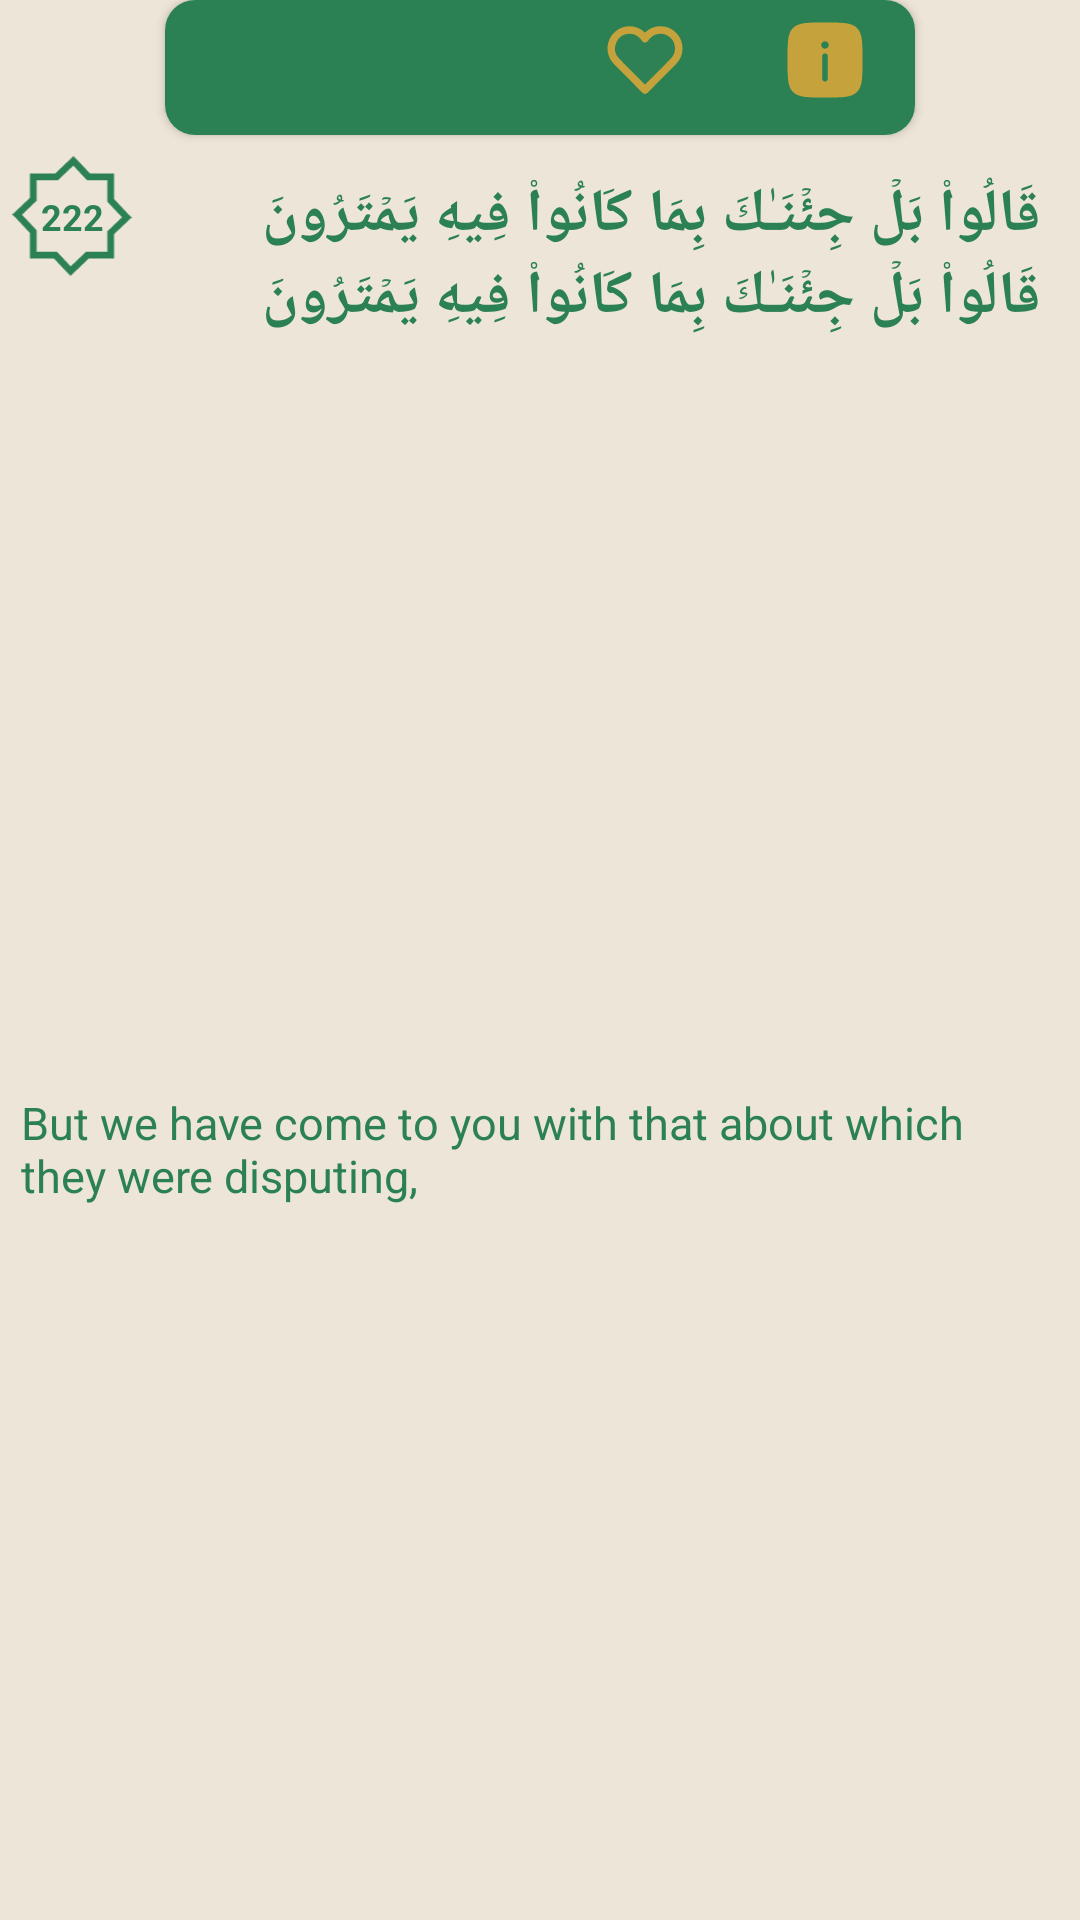

Locate icon controls on the screen. Image size 1080px x 1920px, boxes as (x1, y1, x2, y2).
fav out: (607, 26, 683, 94)
info square: (787, 22, 863, 98)
islamic star ayah: (12, 156, 132, 276)
